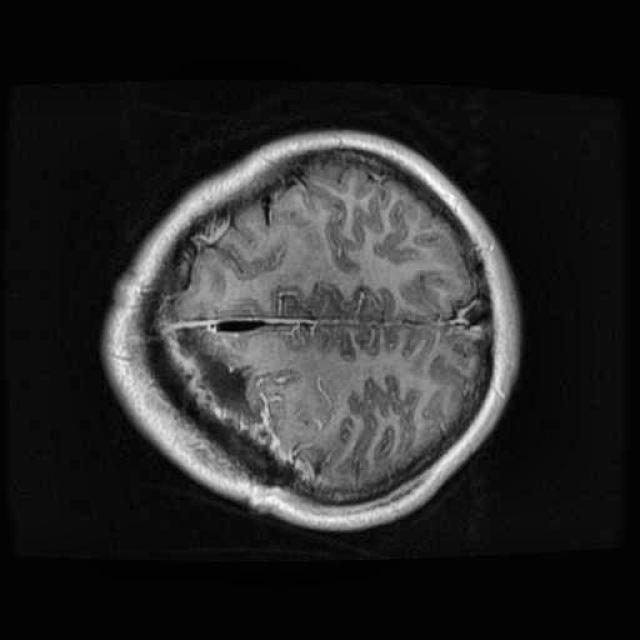Non-Tumor: (146, 314, 286, 444)
